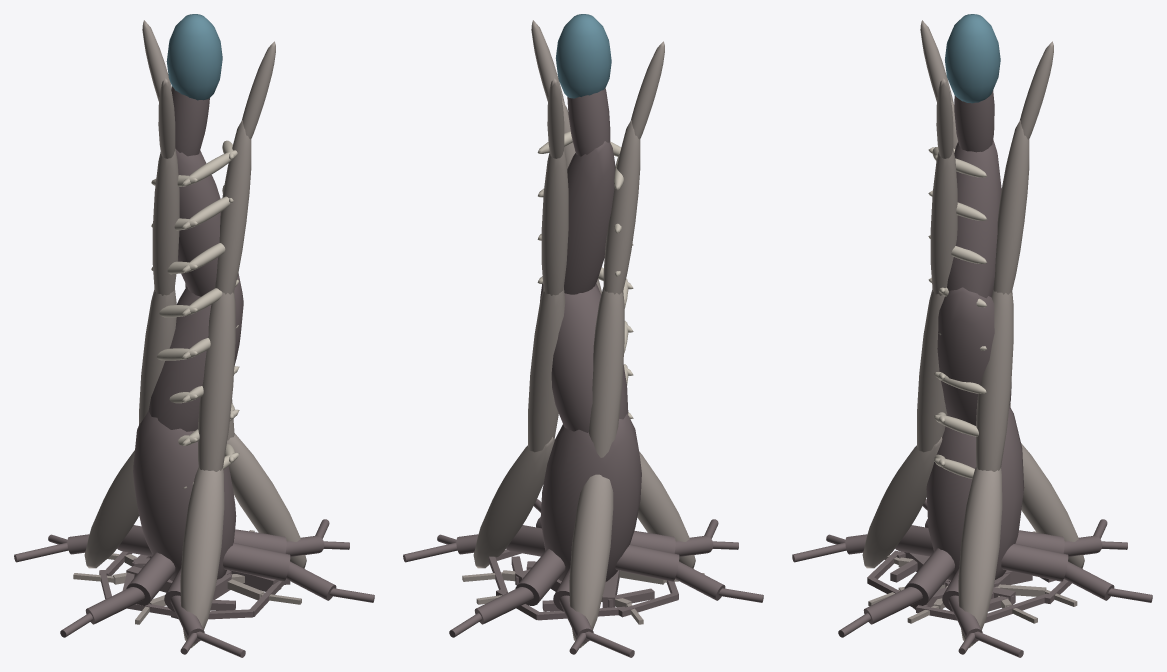
The model's file is CMU3DHiveCMU14PathogenPylon.glb.
3 views of the same model, side by side, from view 1: azimuth 30°, elevation 25°; view 2: azimuth 150°, elevation 25°; view 3: azimuth 270°, elevation 25° (orthographic).
Visible parts, largest first — view 1: twisted pylon buttress (×10), crooked pylon spine (×4), sinuous anchoring root (×8), pylon sensory crown, overlapping vertebral ridge (×2); view 2: twisted pylon buttress (×10), crooked pylon spine (×4), sinuous anchoring root (×8), pylon sensory crown, interwoven root loop; view 3: twisted pylon buttress (×10), crooked pylon spine (×4), sinuous anchoring root (×8), pylon sensory crown, interwoven root loop.
Part boxes in pixels (<box>): twisted pylon buttress (×10): <box>84,20,306,647</box>; crooked pylon spine (×4): <box>133,86,243,581</box>; sinuous anchoring root (×8): <box>85,525,336,642</box>; pylon sensory crown: <box>166,14,222,100</box>; overlapping vertebral ridge (×2): <box>182,150,237,229</box>; twisted pylon buttress (×10): <box>473,20,695,647</box>; crooked pylon spine (×4): <box>540,88,641,581</box>; sinuous anchoring root (×8): <box>474,525,725,642</box>; pylon sensory crown: <box>555,14,611,98</box>; interwoven root loop: <box>618,593,678,617</box>; twisted pylon buttress (×10): <box>862,20,1084,647</box>; crooked pylon spine (×4): <box>926,90,1024,580</box>; sinuous anchoring root (×8): <box>863,525,1114,642</box>; pylon sensory crown: <box>945,14,1000,103</box>; interwoven root loop: <box>985,593,1049,622</box>.
Bounding box in the file's own units: 1.06 × 1.88 × 1.06.
